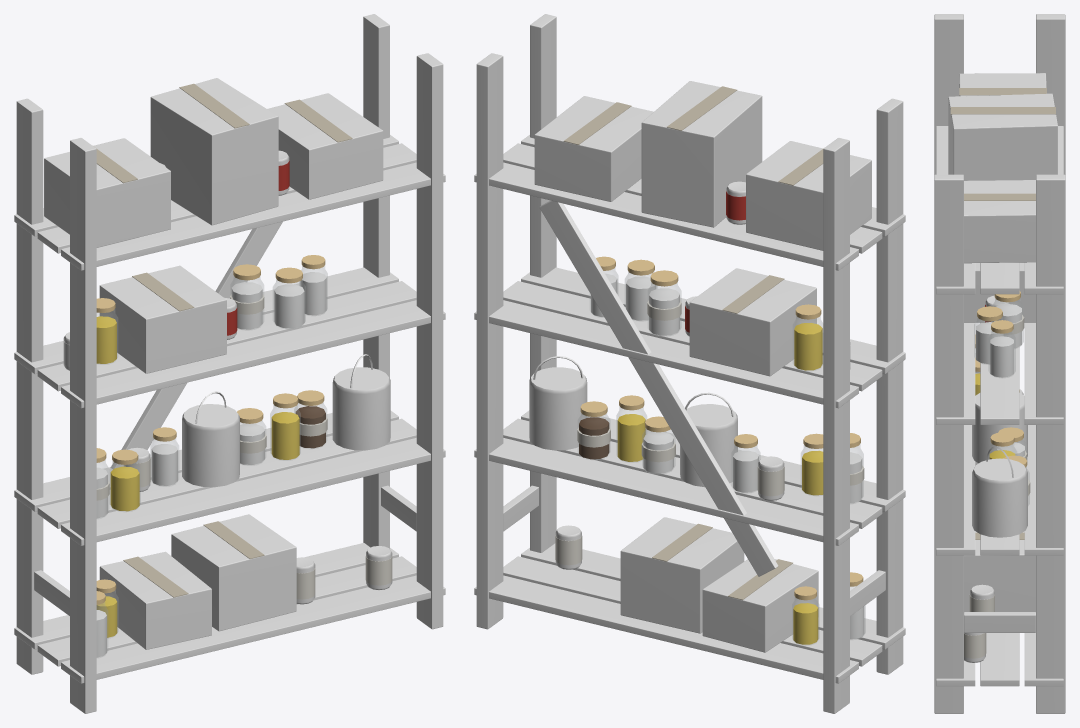
The model's file is SM_Shelf_Wood.fbx.
3 views of the same model, side by side, from view 1: azimuth 30°, elevation 25°; view 2: azimuth 150°, elevation 25°; view 3: azimuth 270°, elevation 25° (orthographic). The views are drawn at different scales.
Visible parts, largest first — view 1: SM_Shelf_Wood; view 2: SM_Shelf_Wood; view 3: SM_Shelf_Wood.
Boxes of the visible parts, x1=… form: SM_Shelf_Wood: x1=14, y1=14, x2=445, y2=713; SM_Shelf_Wood: x1=474, y1=14, x2=905, y2=713; SM_Shelf_Wood: x1=934, y1=14, x2=1065, y2=713.
Size of the model in its own units: 122 by 180 by 40.
